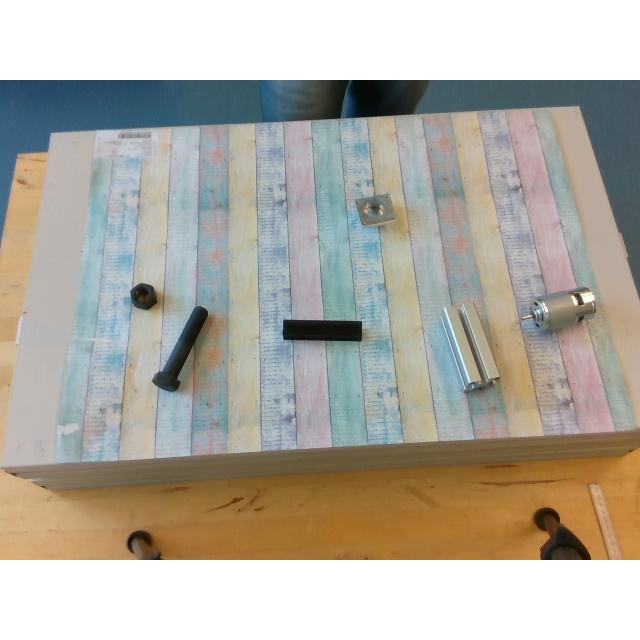F20_20_B: (283, 319, 362, 339)
M20: (130, 284, 154, 308)
M20_100: (152, 306, 208, 389)
Motor2: (530, 287, 596, 329)
S40_40_G: (442, 302, 498, 390)
